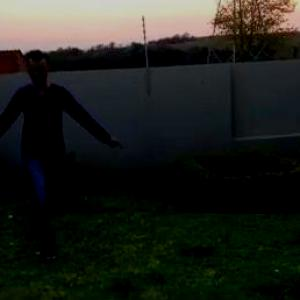land: (1, 51, 99, 225)
